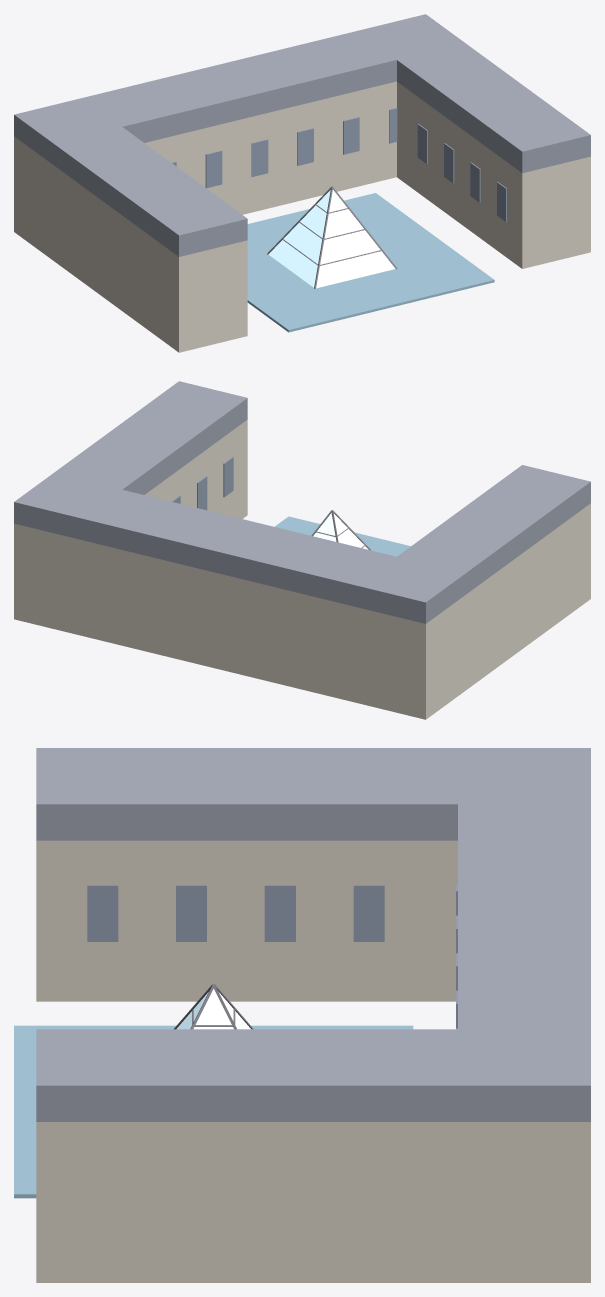
The model's file is louvre.glb.
3 views of the same model, one above another, from view 1: azimuth 30°, elevation 25°; view 2: azimuth 150°, elevation 25°; view 3: azimuth 270°, elevation 25° (orthographic). The views are drawn at different scales.
Visible parts, largest first — view 1: WingNRoof, WingN, WingW, WingE, Pool, WingERoof, WingWRoof, Pyramid, WinN3, WinN4, WinN5, WinN6; view 2: WingN, WingNRoof, WingWRoof, WingERoof, WingW, WingE, Pool, Pyramid; view 3: WingE, WingW, WingNRoof, WingERoof, WingWRoof, WingN, Pool, WinS0-1, WinS2-1, WinS3-1, WinS1-1, Pyramid.
Part boxes in pixels (x1,y1,x2,y2): WingNRoof: (14, 14, 464, 164); WingN: (14, 81, 396, 260); WingW: (33, 151, 247, 352); WingE: (397, 82, 590, 268); Pool: (247, 193, 494, 332); WingERoof: (377, 28, 590, 173); WingWRoof: (33, 127, 247, 256); Pyramid: (268, 190, 395, 288); WinN3: (205, 150, 222, 188); WinN4: (251, 139, 268, 176); WinN5: (297, 128, 313, 165); WinN6: (343, 117, 359, 154); WingN: (14, 523, 465, 719); WingNRoof: (14, 473, 465, 623); WingWRoof: (377, 465, 590, 594); WingERoof: (34, 381, 247, 504); WingW: (465, 503, 590, 690); WingE: (144, 420, 247, 518); Pool: (274, 516, 410, 556); Pyramid: (313, 513, 368, 549); WingE: (36, 1122, 524, 1282); WingW: (36, 840, 457, 1001); WingNRoof: (458, 748, 590, 1121); WingERoof: (36, 1029, 524, 1121); WingWRoof: (36, 748, 523, 840); WingN: (458, 1122, 590, 1282); Pool: (14, 1025, 413, 1198); WinS0-1: (87, 885, 118, 941); WinS2-1: (264, 885, 295, 941); WinS3-1: (353, 885, 384, 941); WinS1-1: (176, 885, 206, 941); Pyramid: (176, 989, 250, 1029).
Size of the model in its own units: 18 by 4.93 by 13.
